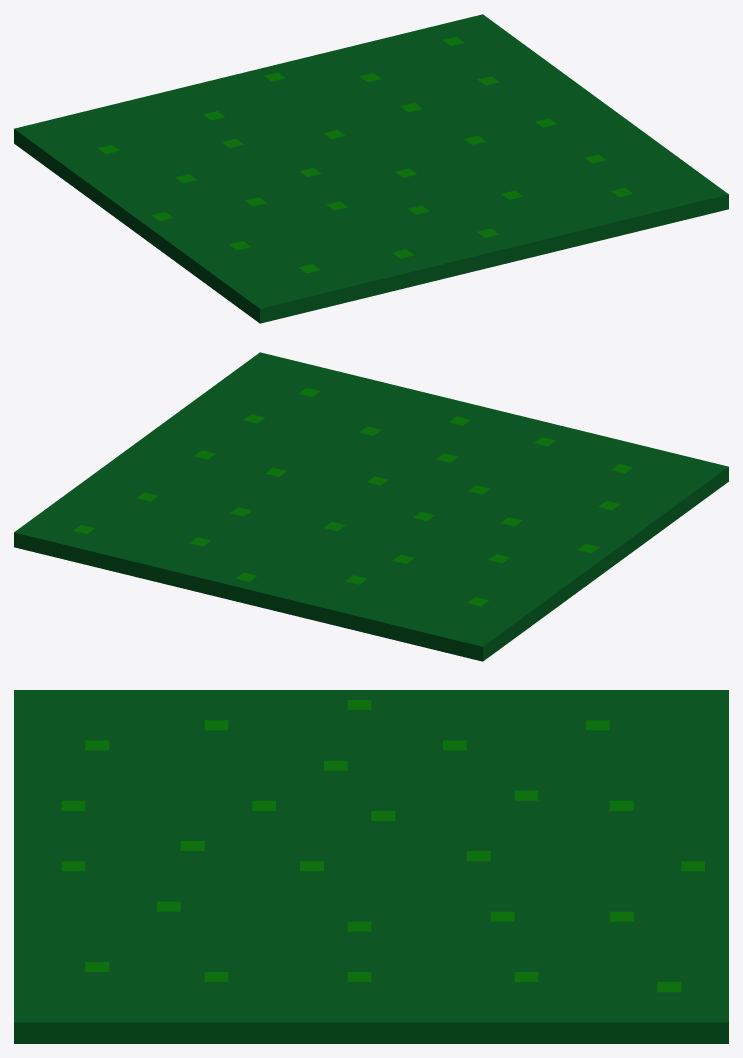
File: planszaaaaa.obj
The picture shows the model from 3 angles, top to bottom: view 1: azimuth 30°, elevation 25°; view 2: azimuth 150°, elevation 25°; view 3: azimuth 270°, elevation 25°; orthographic projection. The views are drawn at different scales.
Bounding box in the file's own units: 3.3 × 0.1 × 3.
1 material, 1 textured.
